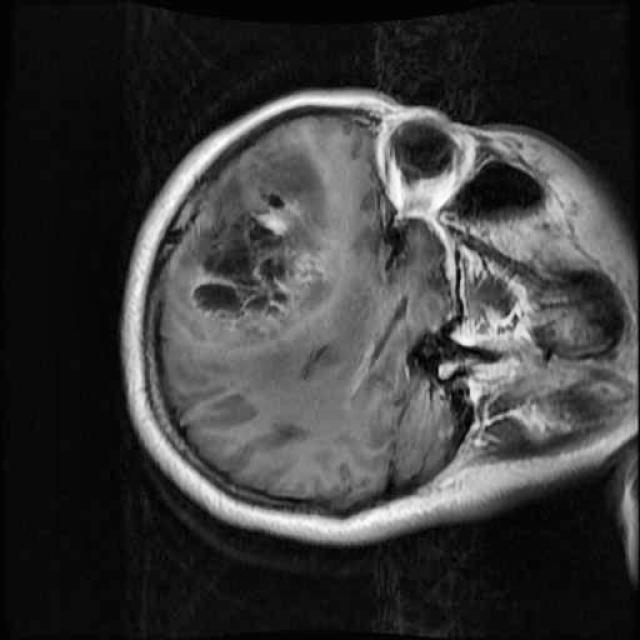Tumor: (182, 158, 337, 344)
